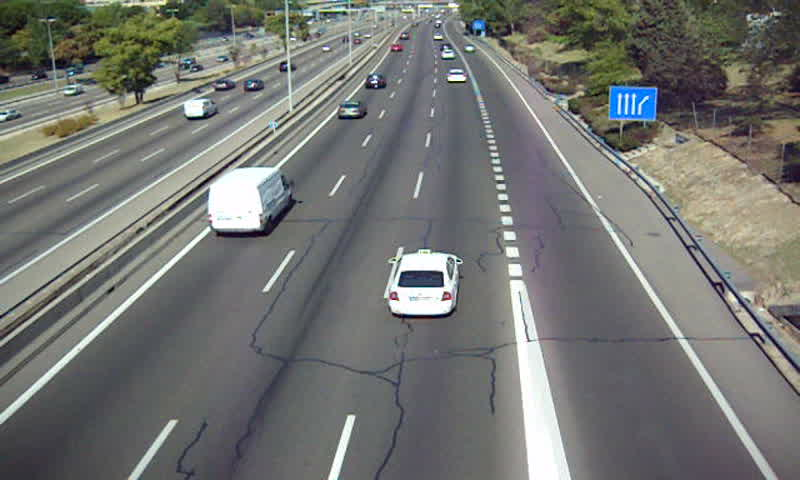car: (389, 252, 458, 317), (336, 101, 366, 121), (364, 73, 386, 92), (445, 68, 468, 84)
van: (208, 168, 293, 234)
